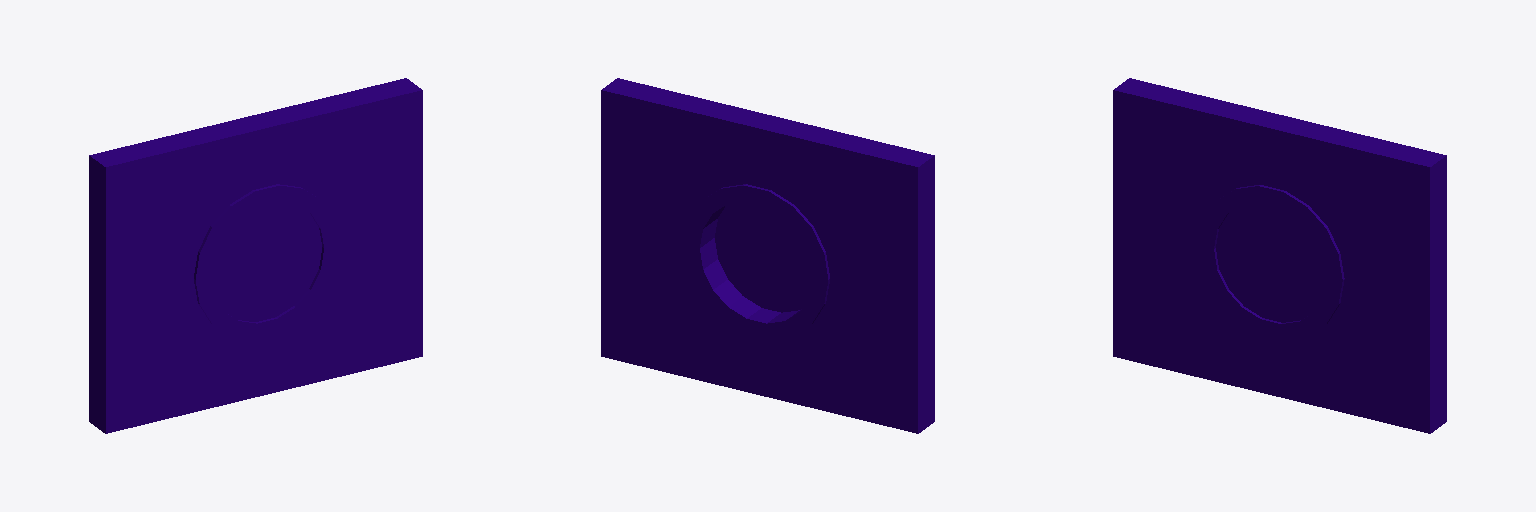
Rendered from aniport_windowwall.obj.
The picture shows the model from 3 angles: view 1: azimuth 30°, elevation 25°; view 2: azimuth 150°, elevation 25°; view 3: azimuth 330°, elevation 25°; orthographic projection.
Visible parts, largest first — view 1: Cylinder001; view 2: Cylinder001; view 3: Cylinder001.
Boxes of the visible parts, x1=… form: Cylinder001: x1=89, y1=78, x2=422, y2=433; Cylinder001: x1=601, y1=78, x2=934, y2=433; Cylinder001: x1=1113, y1=78, x2=1446, y2=433.
Bounding box in the file's own units: 1.83 × 1.47 × 0.2026.